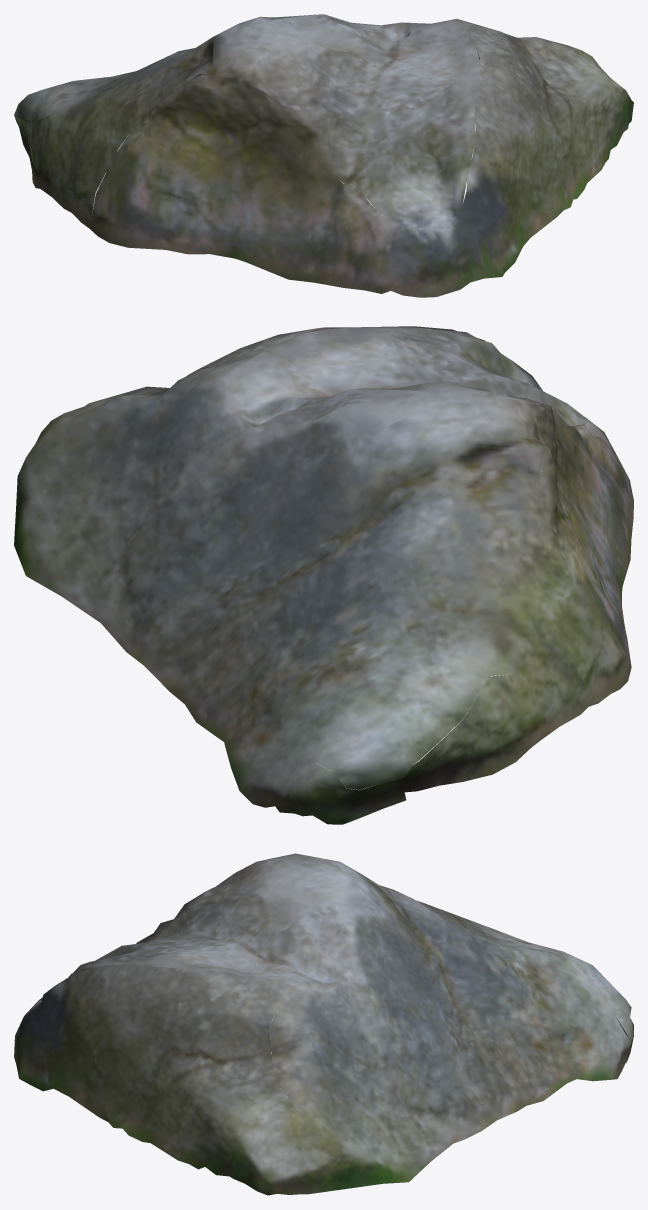
Rendered from rock.glb.
The picture shows the model from 3 angles, top to bottom: view 1: azimuth 30°, elevation 25°; view 2: azimuth 150°, elevation 25°; view 3: azimuth 270°, elevation 25°; orthographic projection. The views are drawn at different scales.
Visible parts, largest first — view 1: Object_3; view 2: Object_3; view 3: Object_3.
Boxes of the visible parts, box(x1,y1,x2,y2) form: Object_3: box(14, 14, 633, 297); Object_3: box(14, 326, 633, 824); Object_3: box(14, 853, 633, 1195).
Size of the model in its own units: 1.7 by 0.6711 by 1.81.
1 material, 1 textured.
